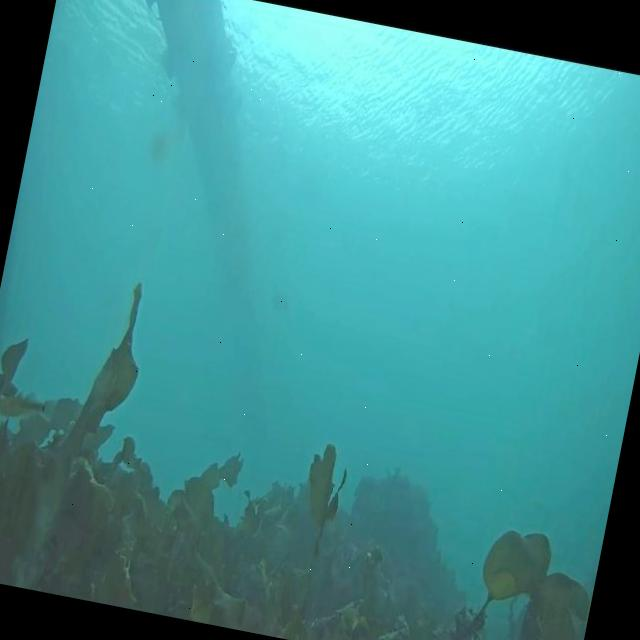fish: (0, 393, 51, 429), (268, 290, 292, 319)
